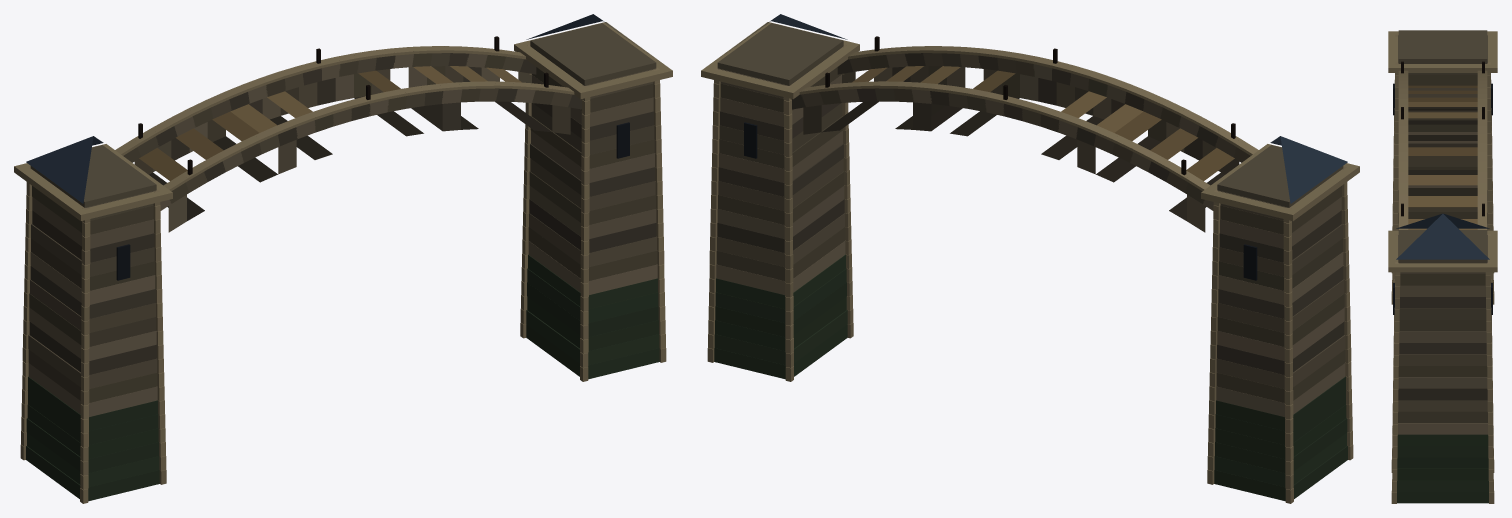
File: stone-bridge.glb
3 renders of one model, left to right at view 1: azimuth 30°, elevation 25°; view 2: azimuth 150°, elevation 25°; view 3: azimuth 270°, elevation 25°, orthographic. The views are drawn at different scales.
Parts seen in each view (by area): view 1: bridge; view 2: bridge; view 3: bridge.
Boxes of the visible parts, x1,y1,x2,y2 form: bridge: (14, 14, 672, 503); bridge: (701, 14, 1359, 503); bridge: (1388, 30, 1497, 503).
Bounding box in the file's own units: 37.9 × 20.95 × 7.4.
